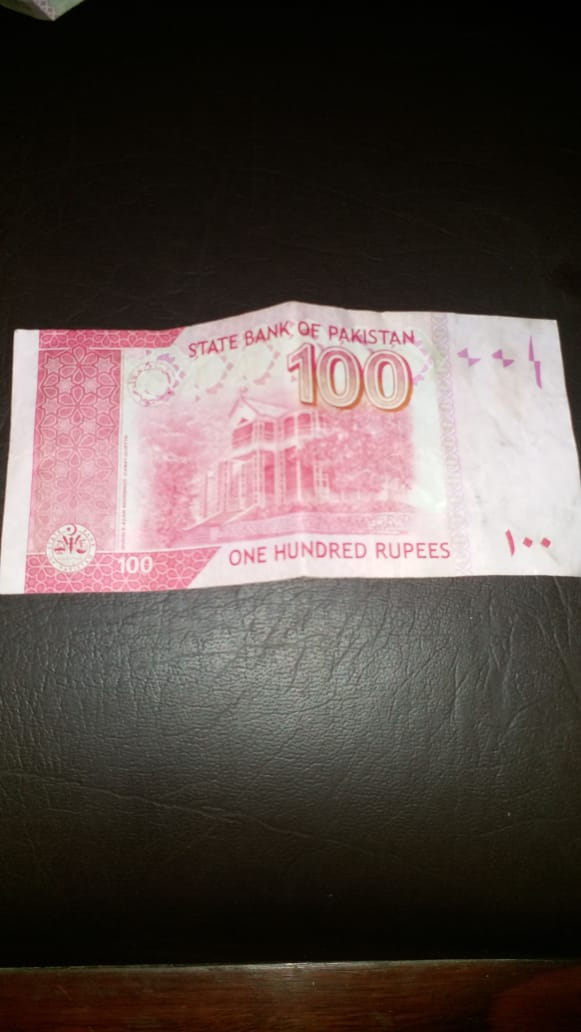100 rupee: (3, 296, 581, 599)
